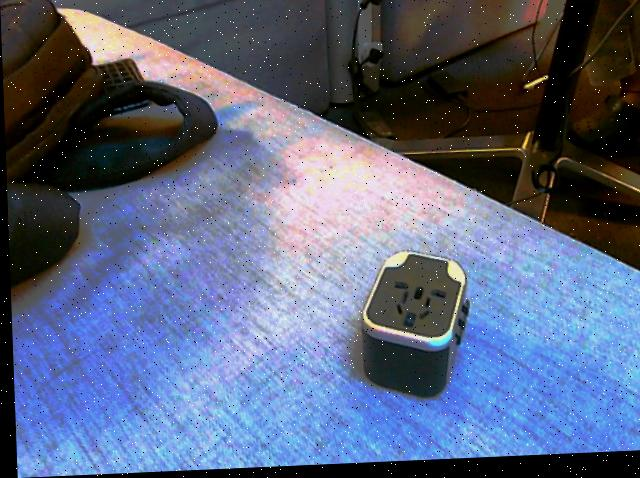adapter: (355, 251, 469, 403)
